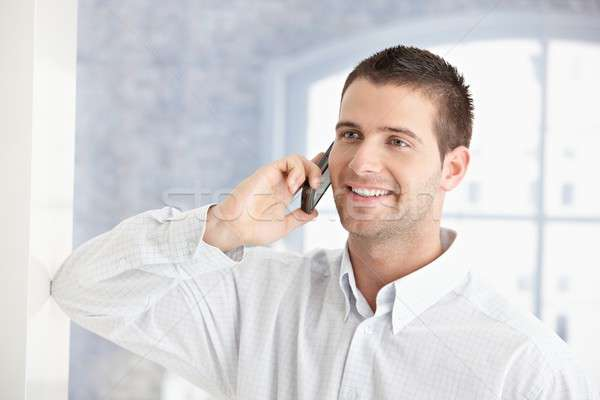phone: (294, 145, 340, 222)
talk: (219, 112, 435, 255)
